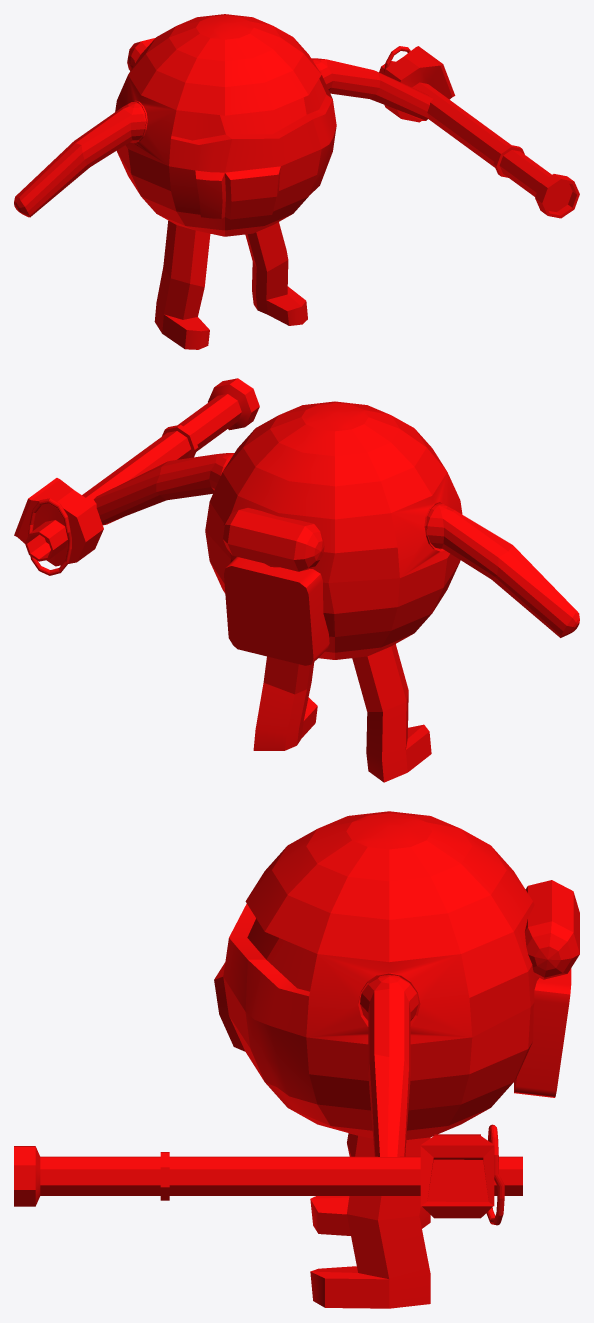
File: mo_EnnemieRobot03.fbx
3 renders of one model, top to bottom at view 1: azimuth 30°, elevation 25°; view 2: azimuth 150°, elevation 25°; view 3: azimuth 270°, elevation 25°, orthographic. The views are drawn at different scales.
Visible parts, largest first — view 1: scn_Robot:Body, scn_Robot:arm, scn_Robot:pCylinder2; view 2: scn_Robot:Body, scn_Robot:arm, scn_Robot:pCylinder2, scn_Robot:BagBack_2, scn_Robot:bagback; view 3: scn_Robot:Body, scn_Robot:pCylinder2, scn_Robot:arm, scn_Robot:bagback, scn_Robot:BagBack_2.
Part boxes in pixels (left/top/right/bottom): scn_Robot:Body: left=115, top=14, right=336, bottom=349; scn_Robot:arm: left=14, top=58, right=432, bottom=217; scn_Robot:pCylinder2: left=379, top=46, right=579, bottom=218; scn_Robot:Body: left=205, top=401, right=462, bottom=782; scn_Robot:arm: left=93, top=453, right=579, bottom=637; scn_Robot:pCylinder2: left=14, top=378, right=259, bottom=575; scn_Robot:BagBack_2: left=224, top=557, right=329, bottom=665; scn_Robot:bagback: left=222, top=508, right=324, bottom=571; scn_Robot:Body: left=214, top=811, right=539, bottom=1308; scn_Robot:pCylinder2: left=14, top=1124, right=522, bottom=1225; scn_Robot:arm: left=360, top=975, right=418, bottom=1156; scn_Robot:bagback: left=524, top=880, right=579, bottom=979; scn_Robot:BagBack_2: left=514, top=968, right=571, bottom=1097.
Bounding box in the file's own units: 522 × 326 × 383.
